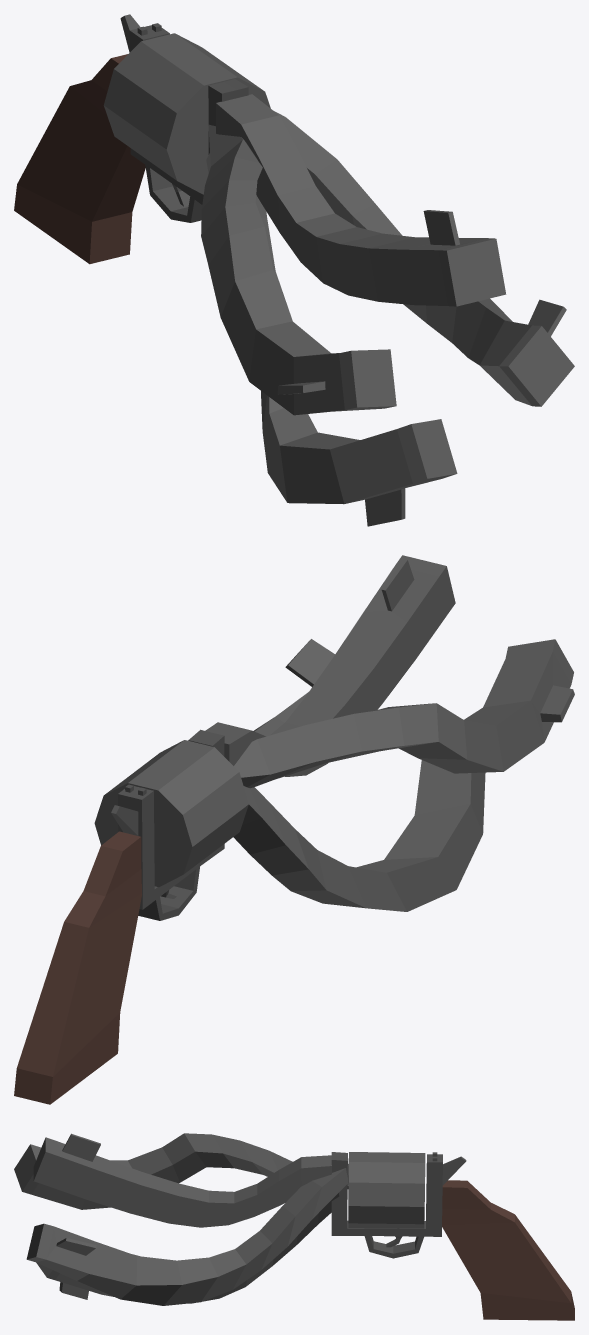
Rendered from LordGun.fbx.
The picture shows the model from 3 angles, top to bottom: view 1: azimuth 30°, elevation 25°; view 2: azimuth 150°, elevation 25°; view 3: azimuth 270°, elevation 25°; orthographic projection. The views are drawn at different scales.
Visible parts, largest first — view 1: Lord Have Mercy; view 2: Lord Have Mercy; view 3: Lord Have Mercy.
Part boxes in pixels (x1,y1,x2,y2): Lord Have Mercy: (14, 14, 574, 526); Lord Have Mercy: (14, 555, 574, 1104); Lord Have Mercy: (14, 1133, 574, 1320).
Bounding box in the file's own units: 353 × 340 × 930.
